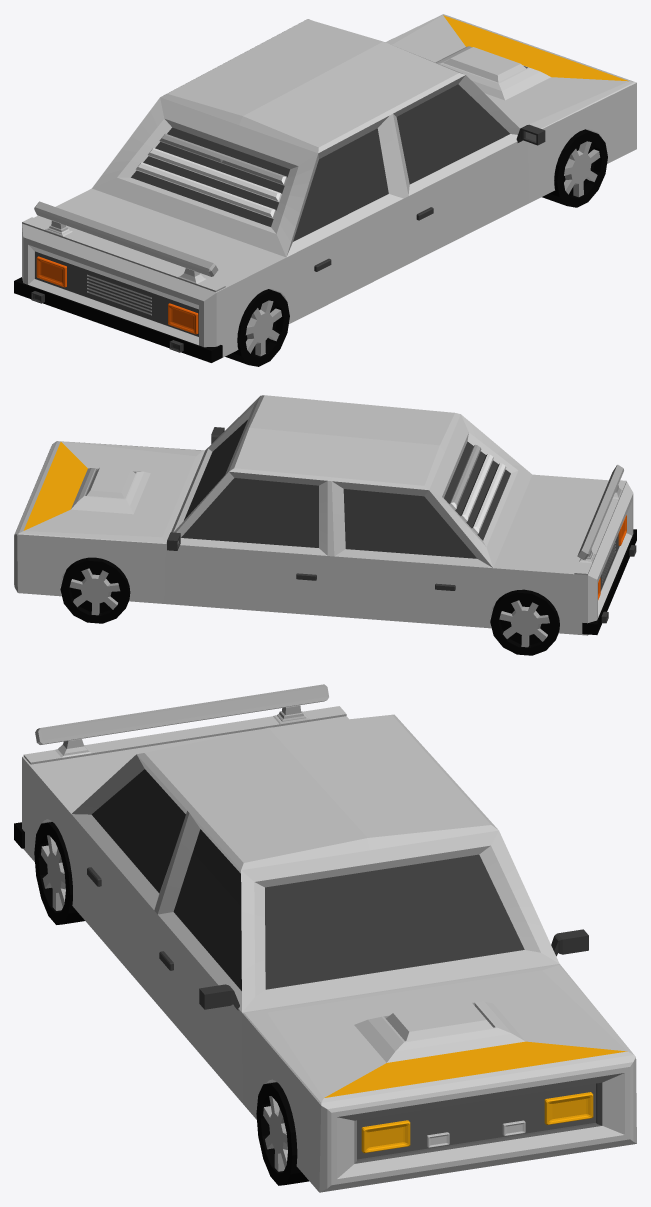
Rendered from FL WHEEL.007_BODY.026.glb.
3 renders of one model, top to bottom at view 1: azimuth 30°, elevation 25°; view 2: azimuth 150°, elevation 25°; view 3: azimuth 270°, elevation 25°, orthographic. The views are drawn at different scales.
Parts seen in each view (by area): view 1: FL WHEEL.007_BODY.026_0; view 2: FL WHEEL.007_BODY.026_0; view 3: FL WHEEL.007_BODY.026_0.
Part boxes in pixels (x1,y1,x2,y2): FL WHEEL.007_BODY.026_0: [14, 14, 636, 366]; FL WHEEL.007_BODY.026_0: [14, 395, 636, 655]; FL WHEEL.007_BODY.026_0: [14, 684, 636, 1192].
Size of the model in its own units: 0.8355 by 0.2293 by 0.5474.
Materials: 1 (1 with a texture image).
